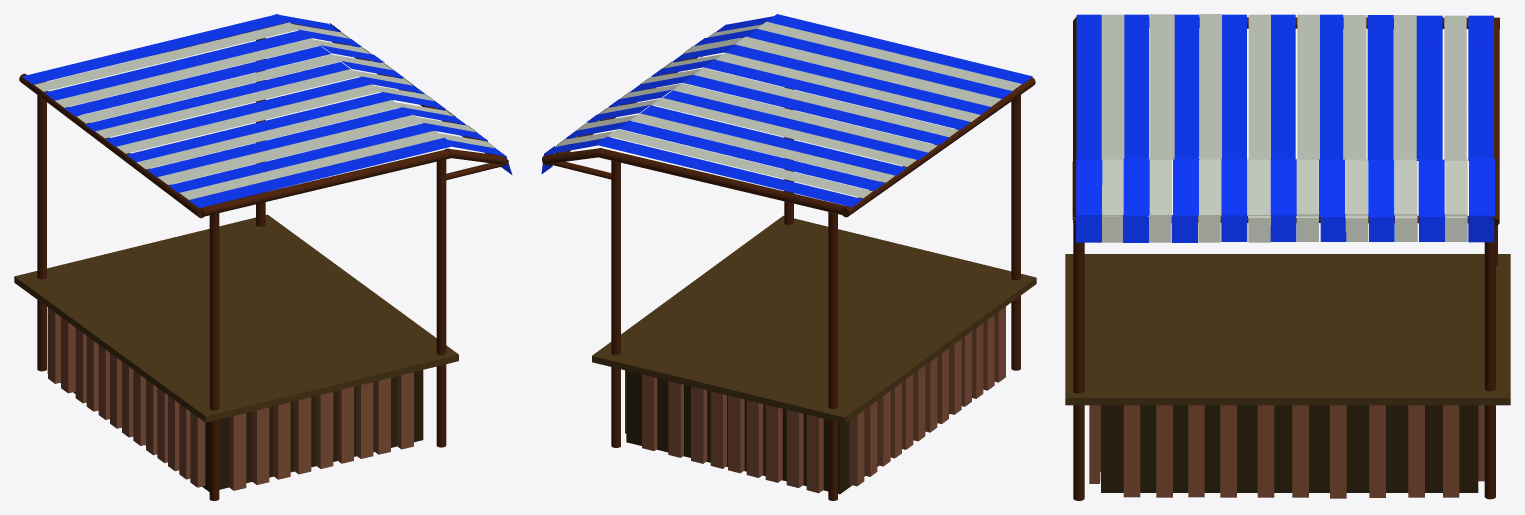
File: Stall2_TJblend.glb
3 renders of one model, left to right at view 1: azimuth 30°, elevation 25°; view 2: azimuth 150°, elevation 25°; view 3: azimuth 270°, elevation 25°, orthographic. The views are drawn at different scales.
Parts seen in each view (by area): view 1: Cube.001, Cube, Cylinder.001, Cylinder.002, Plane.012, Plane.016, Plane, Plane.014, Plane.003, Plane.008, Plane.006, Plane.002 (+35 smaller); view 2: Cube.001, Cube, Plane.014, Plane.016, Plane.012, Plane.006, Plane.008, Plane.003, Plane.004, Plane.002, Plane, Cylinder (+34 smaller); view 3: Cube.001, Cube, Plane.012, Plane.014, Plane, Plane.003, Plane.016, Plane.004, Plane.006, Plane.008, Plane.002, Plane.010 (+57 smaller).
Part boxes in pixels (x1,y1,x2,y2): Cube.001: (14, 214, 458, 422); Cube: (47, 307, 423, 491); Cylinder.001: (209, 212, 219, 500); Cylinder.002: (436, 159, 446, 447); Plane.012: (64, 46, 330, 116); Plane.016: (22, 14, 288, 84); Plane: (188, 137, 454, 207); Plane.014: (44, 30, 310, 100); Plane.003: (157, 114, 423, 184); Plane.008: (105, 77, 371, 147); Plane.006: (126, 92, 392, 162); Plane.002: (168, 123, 434, 193); Cube.001: (592, 215, 1036, 423); Cube: (626, 370, 949, 494); Plane.014: (618, 120, 884, 190); Plane.016: (596, 136, 862, 207); Plane.012: (640, 105, 906, 175); Plane.006: (704, 59, 970, 129); Plane.008: (683, 75, 949, 145); Plane.003: (735, 36, 1001, 106); Plane.004: (724, 45, 990, 114); Plane.002: (746, 29, 1012, 98); Plane: (767, 14, 1032, 84); Cylinder: (828, 212, 837, 500); Cube.001: (1065, 254, 1510, 405); Cube: (1101, 405, 1478, 492); Plane.012: (1367, 15, 1393, 160); Plane.014: (1416, 15, 1442, 160); Plane: (1076, 14, 1102, 159); Plane.003: (1149, 14, 1174, 159); Plane.016: (1468, 15, 1493, 160); Plane.004: (1174, 14, 1199, 159); Plane.006: (1221, 14, 1246, 159); Plane.008: (1270, 14, 1295, 159); Plane.002: (1123, 14, 1148, 159); Plane.010: (1318, 14, 1343, 159).
Size of the model in its own units: 7.76 by 6.99 by 8.13.
8 materials, 8 textured.
